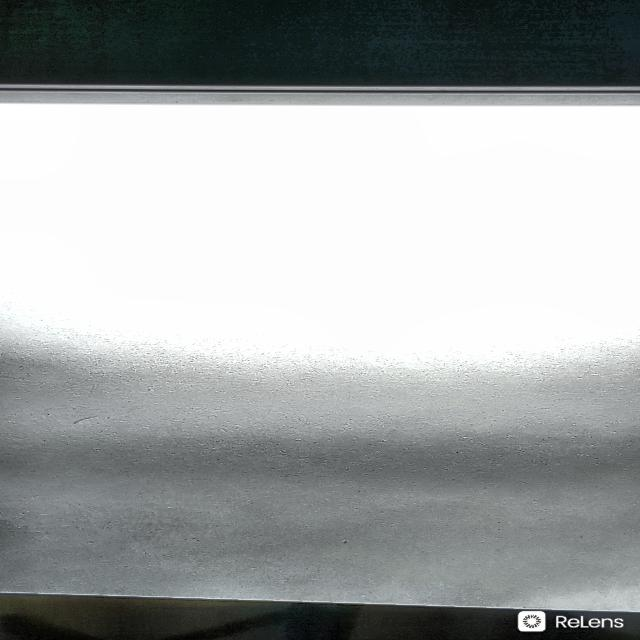Empty: (0, 121, 639, 581)
